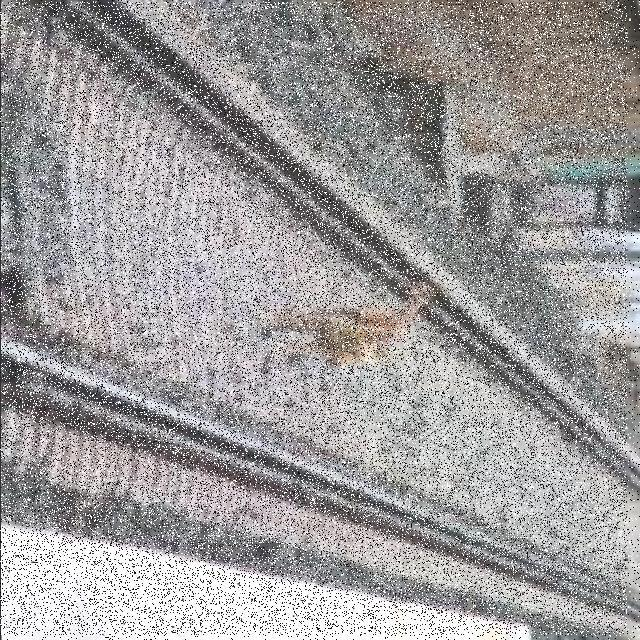danger: (259, 280, 435, 389)
rail: (1, 2, 627, 635)
